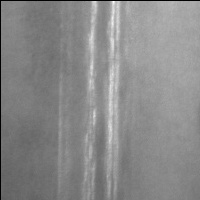scratches: (103, 2, 124, 200), (77, 2, 98, 200), (55, 80, 71, 188)
